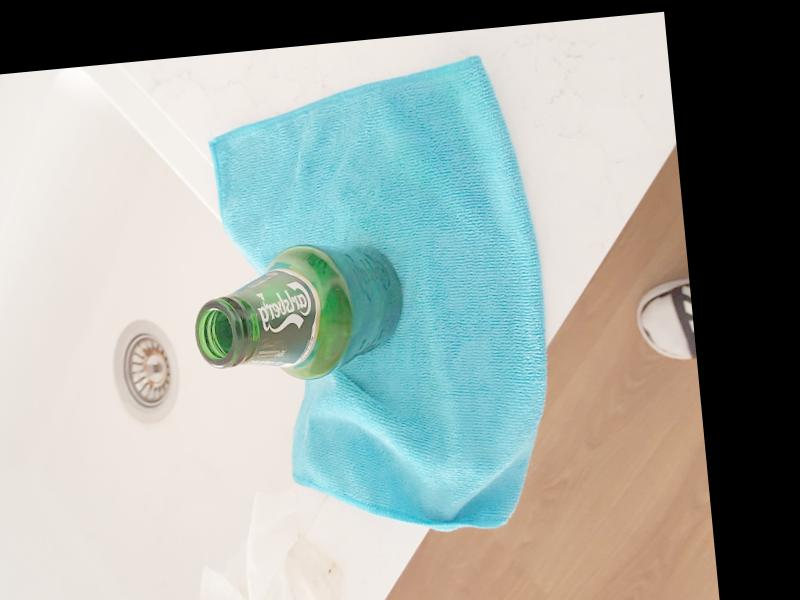Beer: (190, 241, 411, 390)
